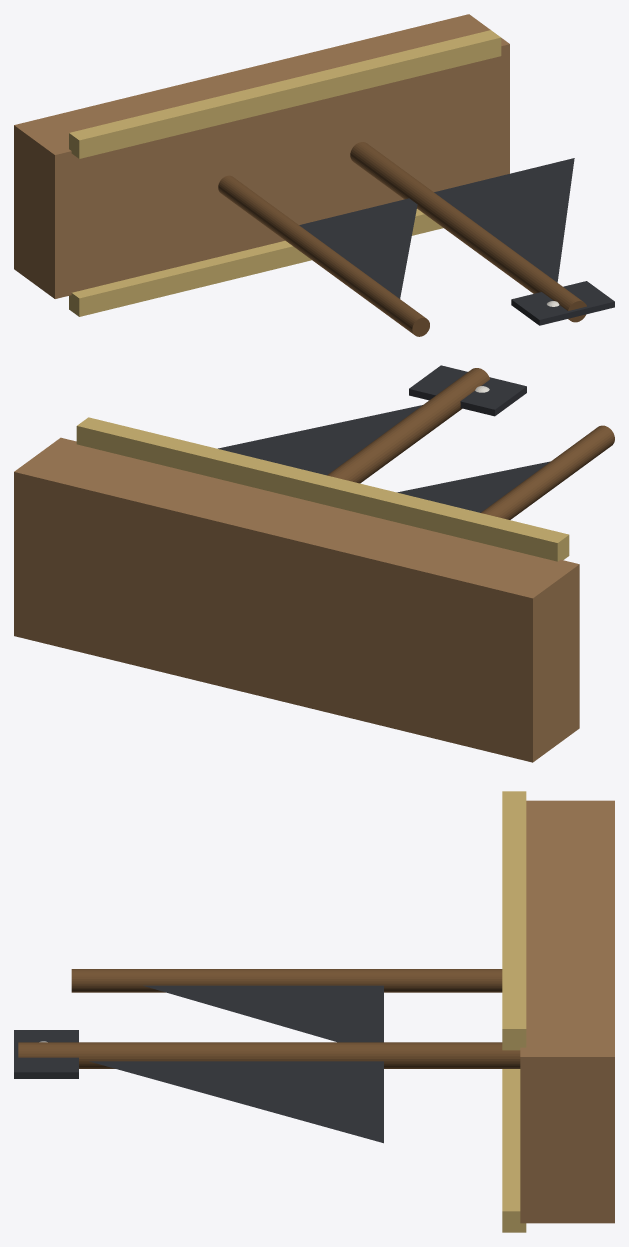
File: boat-pirate-brown.glb
The picture shows the model from 3 angles, top to bottom: view 1: azimuth 30°, elevation 25°; view 2: azimuth 150°, elevation 25°; view 3: azimuth 270°, elevation 25°; orthographic projection. The views are drawn at different scales.
Parts seen in each view (by area): view 1: brown_pirate_hull, gold_trim_back, black_sail_rear, gold_trim, rear_mast, black_sail_front, front_mast, pirate_flag; view 2: brown_pirate_hull, gold_trim_back, black_sail_rear, rear_mast, front_mast, black_sail_front, pirate_flag; view 3: brown_pirate_hull, black_sail_rear, rear_mast, front_mast, black_sail_front, gold_trim_back, gold_trim, pirate_flag.
Boxes of the visible parts, left/top/right/bottom form: brown_pirate_hull: left=14, top=14, right=509, bottom=298; gold_trim_back: left=69, top=30, right=501, bottom=158; black_sail_rear: left=434, top=158, right=574, bottom=282; gold_trim: left=69, top=209, right=443, bottom=316; rear_mast: left=350, top=142, right=586, bottom=322; black_sail_front: left=299, top=198, right=417, bottom=298; front_mast: left=218, top=175, right=429, bottom=336; pirate_flag: left=511, top=281, right=614, bottom=325; brown_pirate_hull: left=14, top=437, right=579, bottom=762; gold_trim_back: left=76, top=417, right=569, bottom=561; black_sail_rear: left=218, top=405, right=422, bottom=475; rear_mast: left=327, top=368, right=489, bottom=483; front_mast: left=481, top=425, right=614, bottom=519; black_sail_front: left=397, top=461, right=550, bottom=512; pirate_flag: left=409, top=365, right=526, bottom=416; brown_pirate_hull: left=520, top=800, right=614, bottom=1223; black_sail_rear: left=89, top=1061, right=383, bottom=1143; rear_mast: left=18, top=1042, right=520, bottom=1068; front_mast: left=71, top=969, right=502, bottom=992; black_sail_front: left=143, top=985, right=383, bottom=1042; gold_trim_back: left=502, top=791, right=526, bottom=1050; gold_trim: left=502, top=1069, right=526, bottom=1232; pirate_flag: left=14, top=1030, right=78, bottom=1078.
Size of the model in its own units: 2.07 by 0.785 by 2.03.
